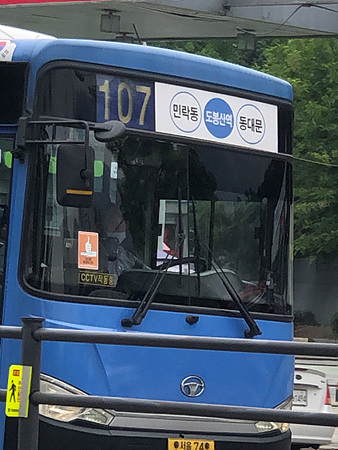bnum: (96, 78, 154, 126)
